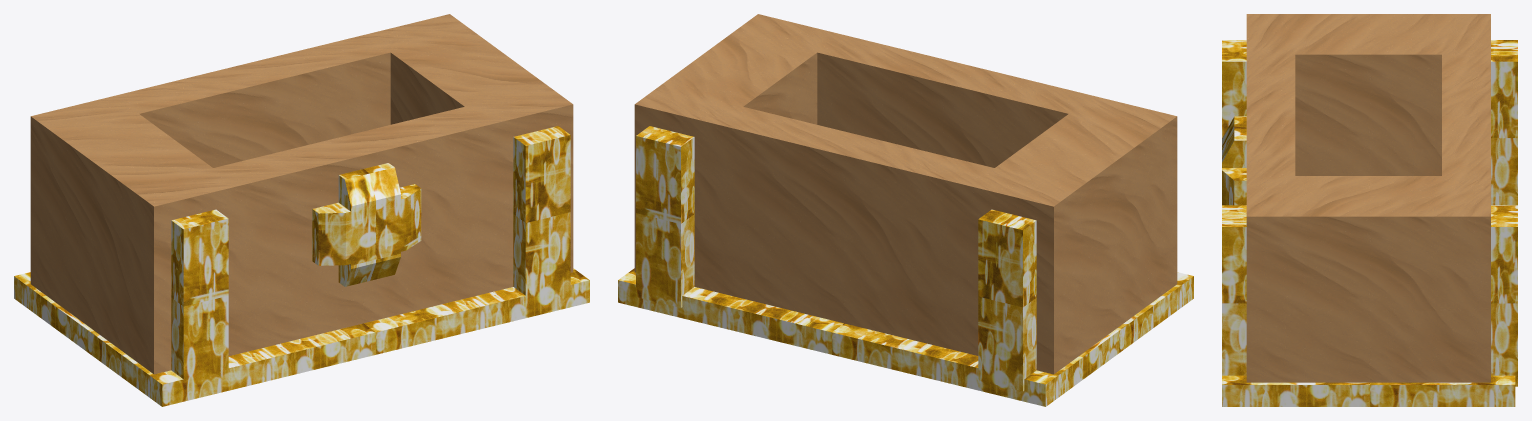
File: treasure_chest.obj
3 renders of one model, left to right at view 1: azimuth 30°, elevation 25°; view 2: azimuth 150°, elevation 25°; view 3: azimuth 270°, elevation 25°, orthographic.
Parts seen in each view (by area): view 1: mergedBlocks; view 2: mergedBlocks; view 3: mergedBlocks.
Part boxes in pixels (<box>): mergedBlocks: <box>14,14,589,406</box>; mergedBlocks: <box>618,14,1193,406</box>; mergedBlocks: <box>1222,14,1517,406</box>.
Size of the model in its own units: 2 by 0.85 by 1.21.
Materials: 2 (2 with a texture image).
